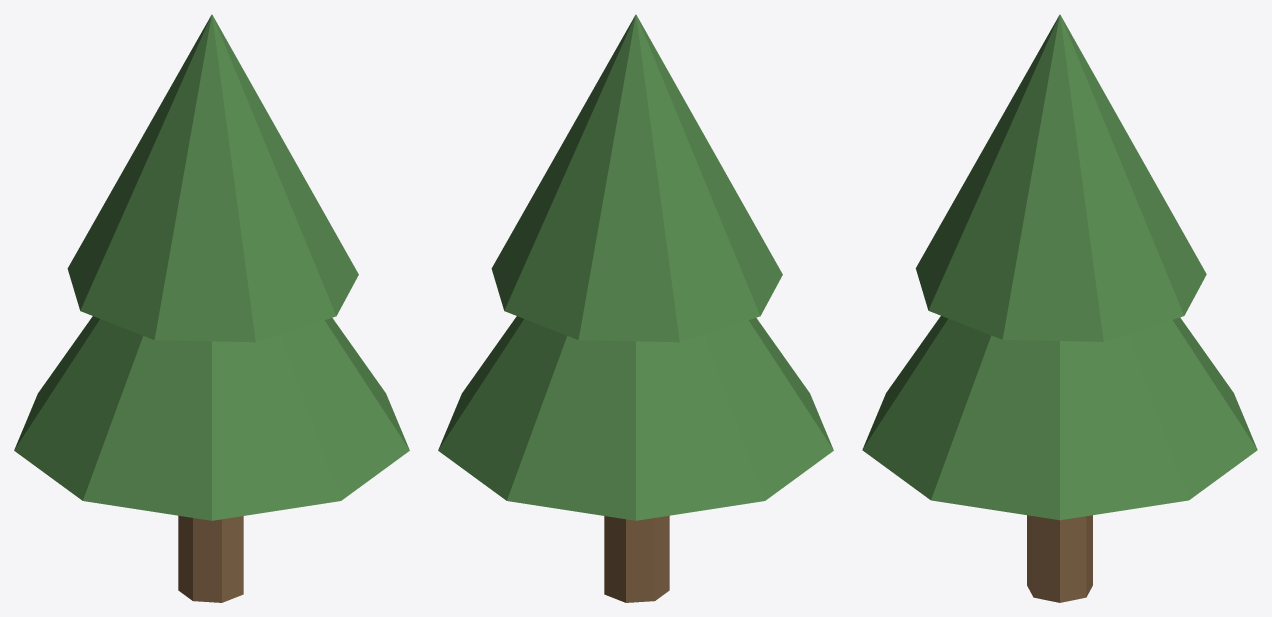
The model's file is tree.glb.
3 renders of one model, left to right at view 1: azimuth 30°, elevation 25°; view 2: azimuth 150°, elevation 25°; view 3: azimuth 270°, elevation 25°, orthographic.
Parts seen in each view (by area): view 1: Tree; view 2: Tree; view 3: Tree.
Part boxes in pixels (left/top/right/bottom): Tree: left=14, top=14, right=409, bottom=602; Tree: left=438, top=14, right=833, bottom=602; Tree: left=862, top=14, right=1257, bottom=602.
Size of the model in its own units: 1.84 by 3 by 1.87.
